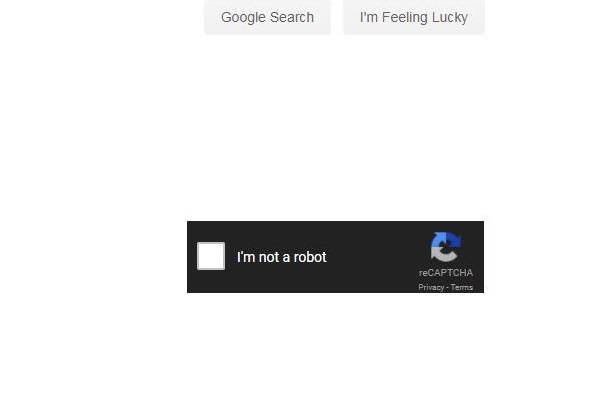captcha: (197, 241, 330, 269)
